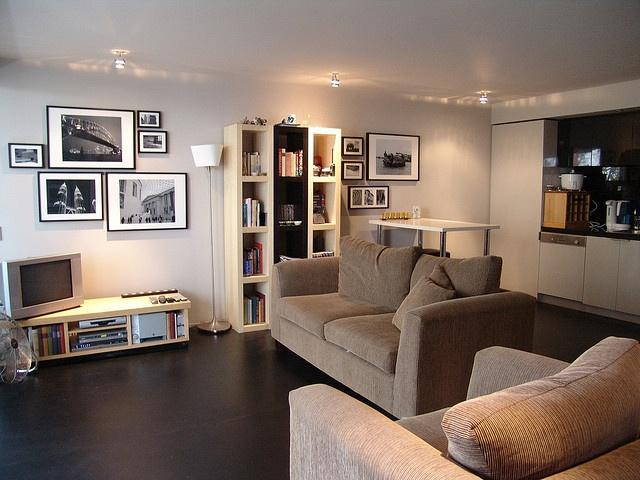AIO PC-Monitor-TV: (6, 251, 84, 320)
Meja: (368, 217, 499, 244)
Rak: (235, 122, 341, 278)
